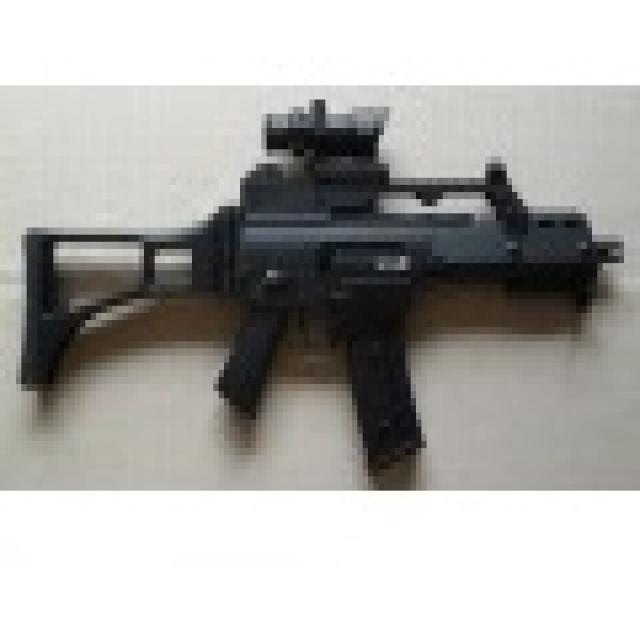Gun: (14, 98, 639, 484)
